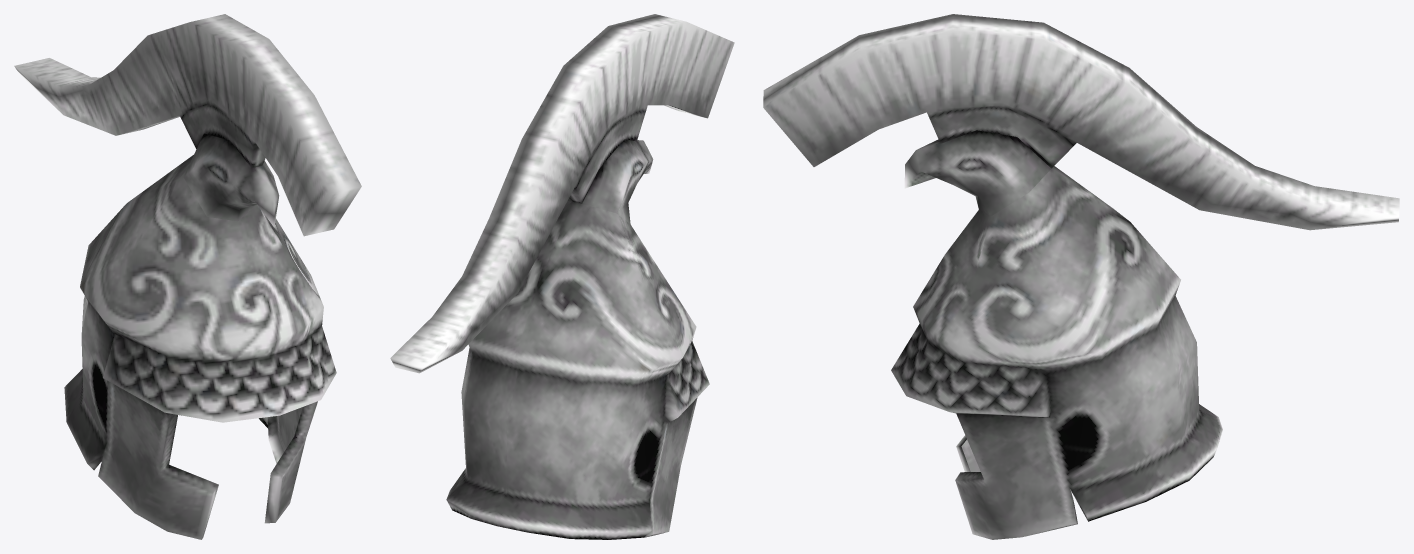
Rendered from rider-helmet-slice-championcavalry.glb.
3 views of the same model, side by side, from view 1: azimuth 30°, elevation 25°; view 2: azimuth 150°, elevation 25°; view 3: azimuth 270°, elevation 25° (orthographic). The views are drawn at different scales.
Bounding box in the file's own units: 0.2668 × 0.6137 × 0.7116.
Materials: 1 (1 with a texture image).
